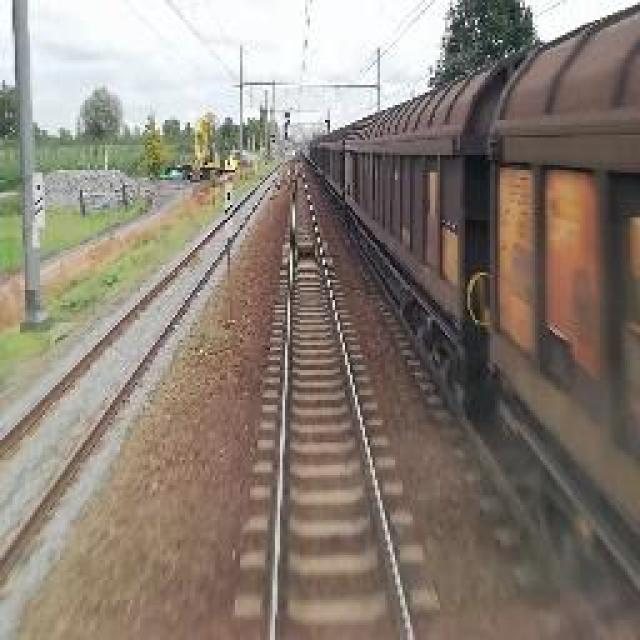rail: (232, 154, 448, 640)
